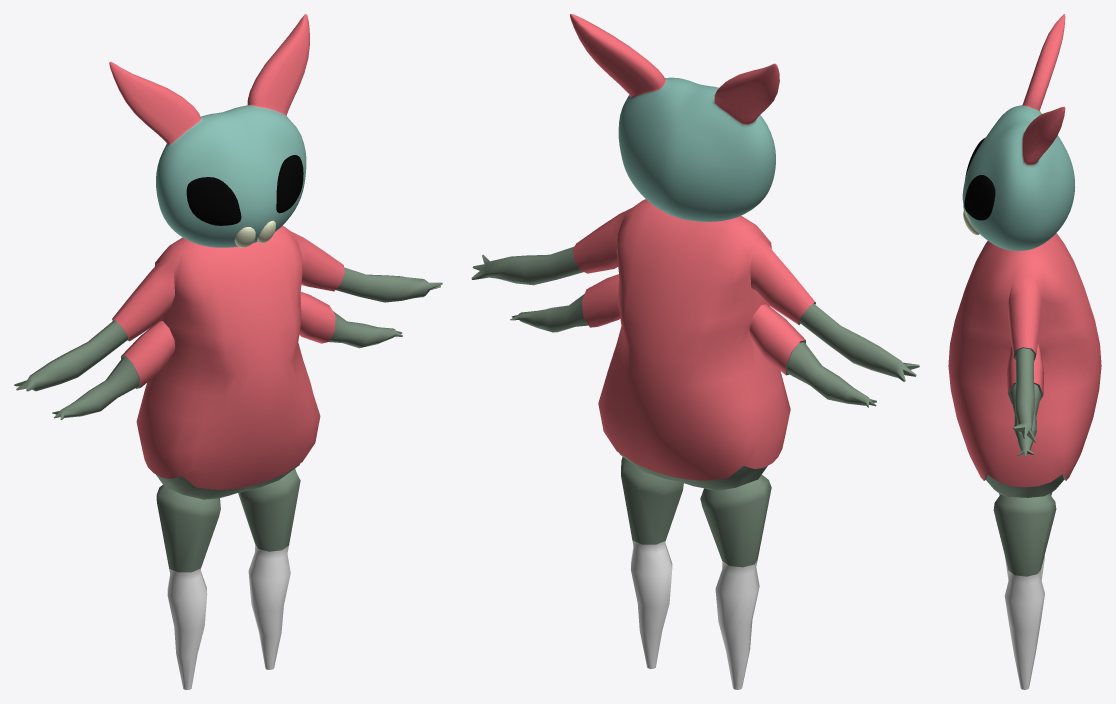
The model's file is character_3.fbx.
The picture shows the model from 3 angles, left to right: view 1: azimuth 30°, elevation 25°; view 2: azimuth 150°, elevation 25°; view 3: azimuth 270°, elevation 25°; orthographic projection. The views are drawn at different scales.
Parts seen in each view (by area): view 1: Roundcube.002; view 2: Roundcube.002; view 3: Roundcube.002.
Boxes of the visible parts, bbox=[...] form: Roundcube.002: bbox=[14, 14, 442, 689]; Roundcube.002: bbox=[471, 14, 919, 689]; Roundcube.002: bbox=[948, 14, 1101, 689].
Size of the model in its own units: 249 by 351 by 80.21.
